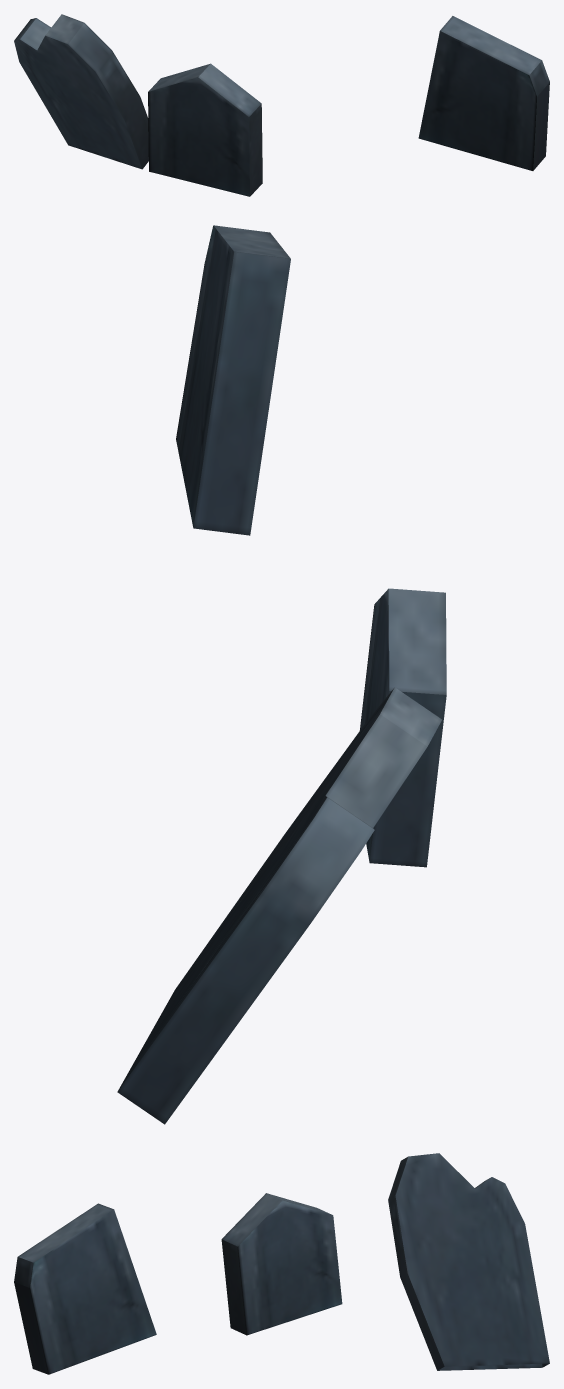
File: Area_04_15.fbx
3 views of the same model, one above another, from view 1: azimuth 30°, elevation 25°; view 2: azimuth 150°, elevation 25°; view 3: azimuth 270°, elevation 25° (orthographic). The views are drawn at different scales.
Parts seen in each view (by area): view 1: Area_04_15; view 2: Area_04_15; view 3: Area_04_15.
Part boxes in pixels (left/top/right/bottom): Area_04_15: left=14, top=14, right=549, bottom=196; Area_04_15: left=117, top=225, right=446, bottom=1124; Area_04_15: left=14, top=1153, right=549, bottom=1374.
Bounding box in the file's own units: 668 × 490 × 969.
